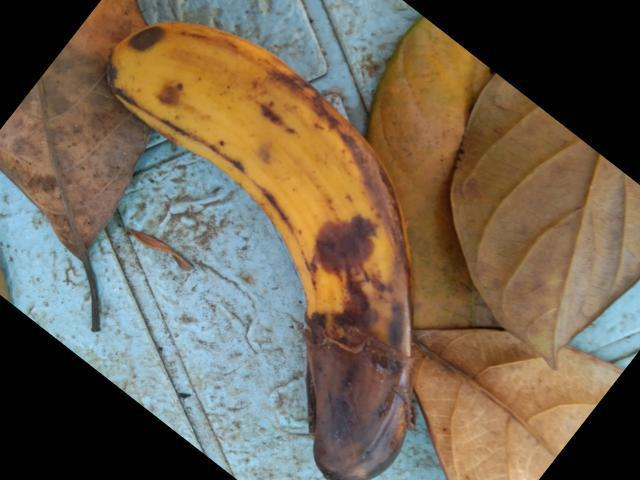rotten: (107, 29, 445, 479)
